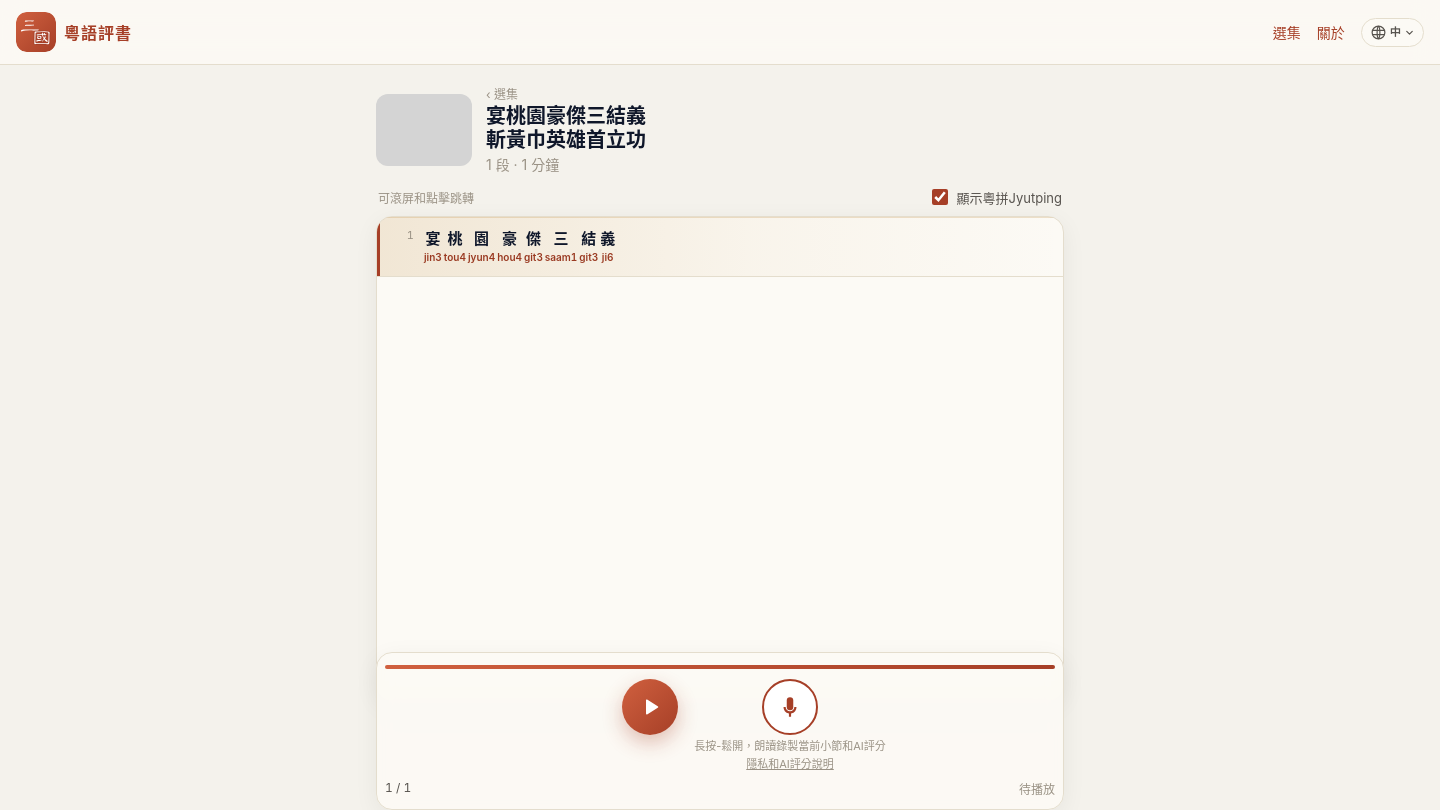
Test: App integration across routes › translates the episode route chrome while leaving the transcript alone
Expected: the text "可滾屏和點擊跳轉" is shown, [378,188,474,206]
Expected: the text "顯示粵拼Jyutping" is shown, [957,188,1062,206]
Click the button "中" at (1392,32), box [1361,18,1424,46]
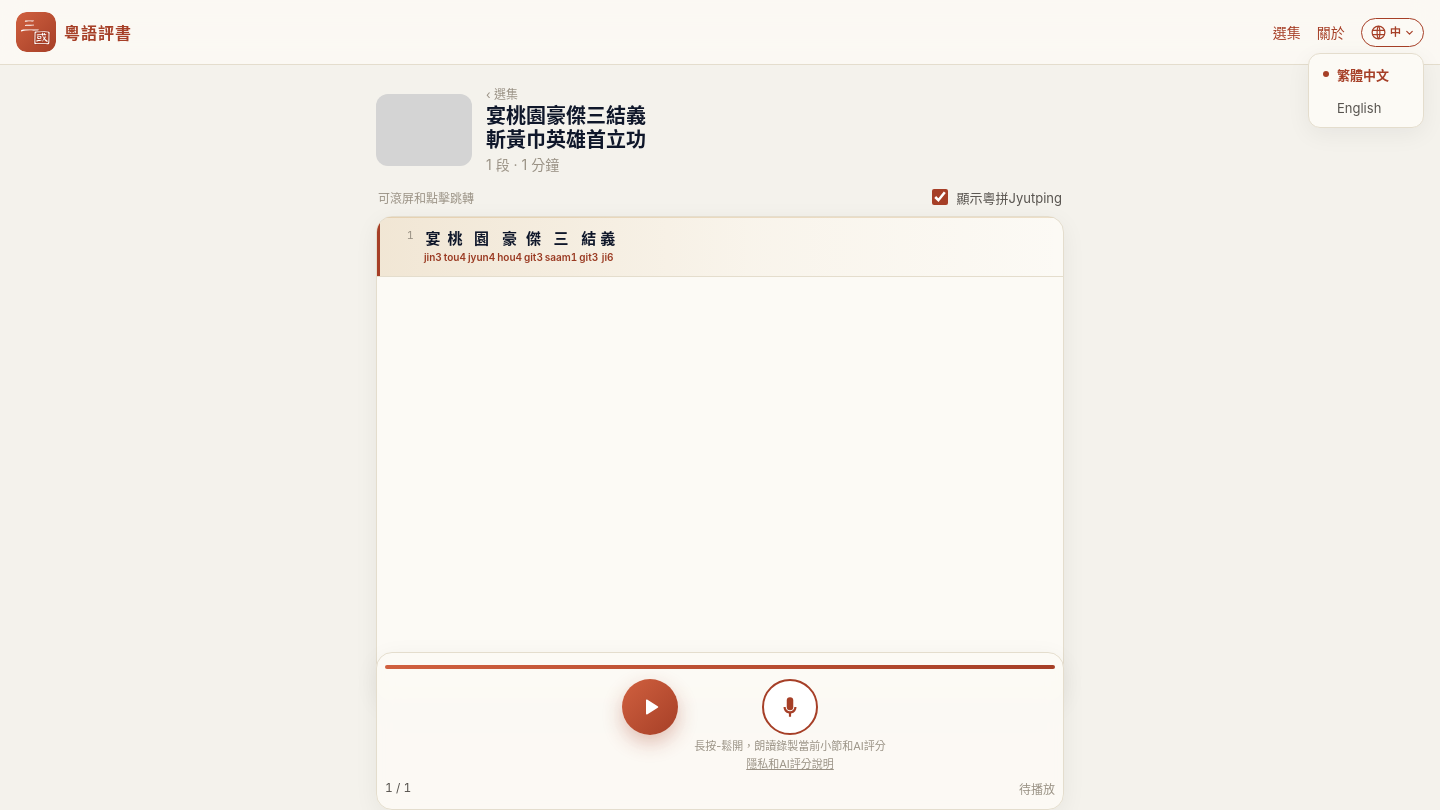
Click the button "English" at (1366,108), box [1313,92,1419,122]
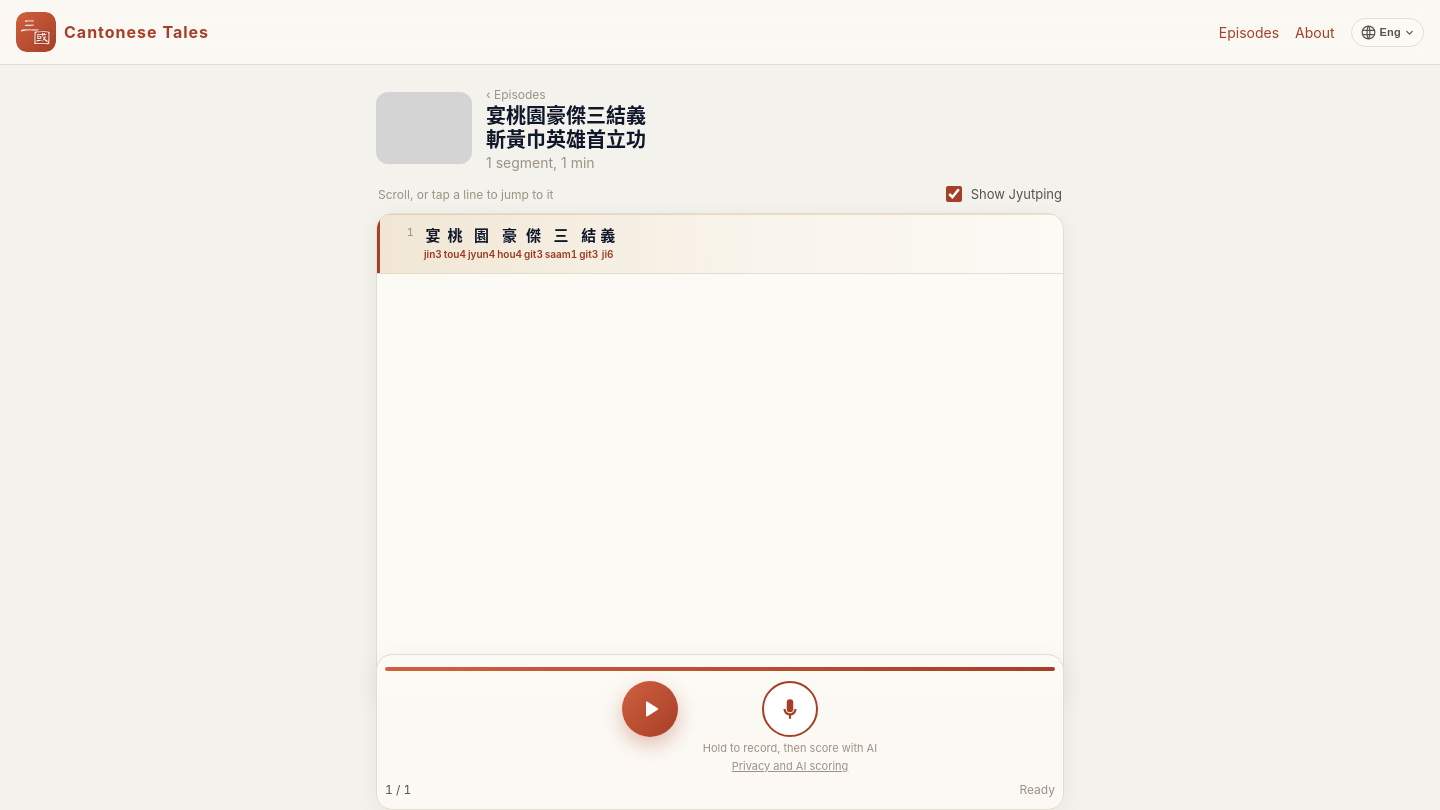
Expected: the text "Scroll, or tap a line to jump to it" is shown, [378,186,554,202]
Expected: the text "Show Jyutping" is shown, [971,186,1062,202]
Expected: the link "Episodes" is shown, [1219,24,1279,40]
